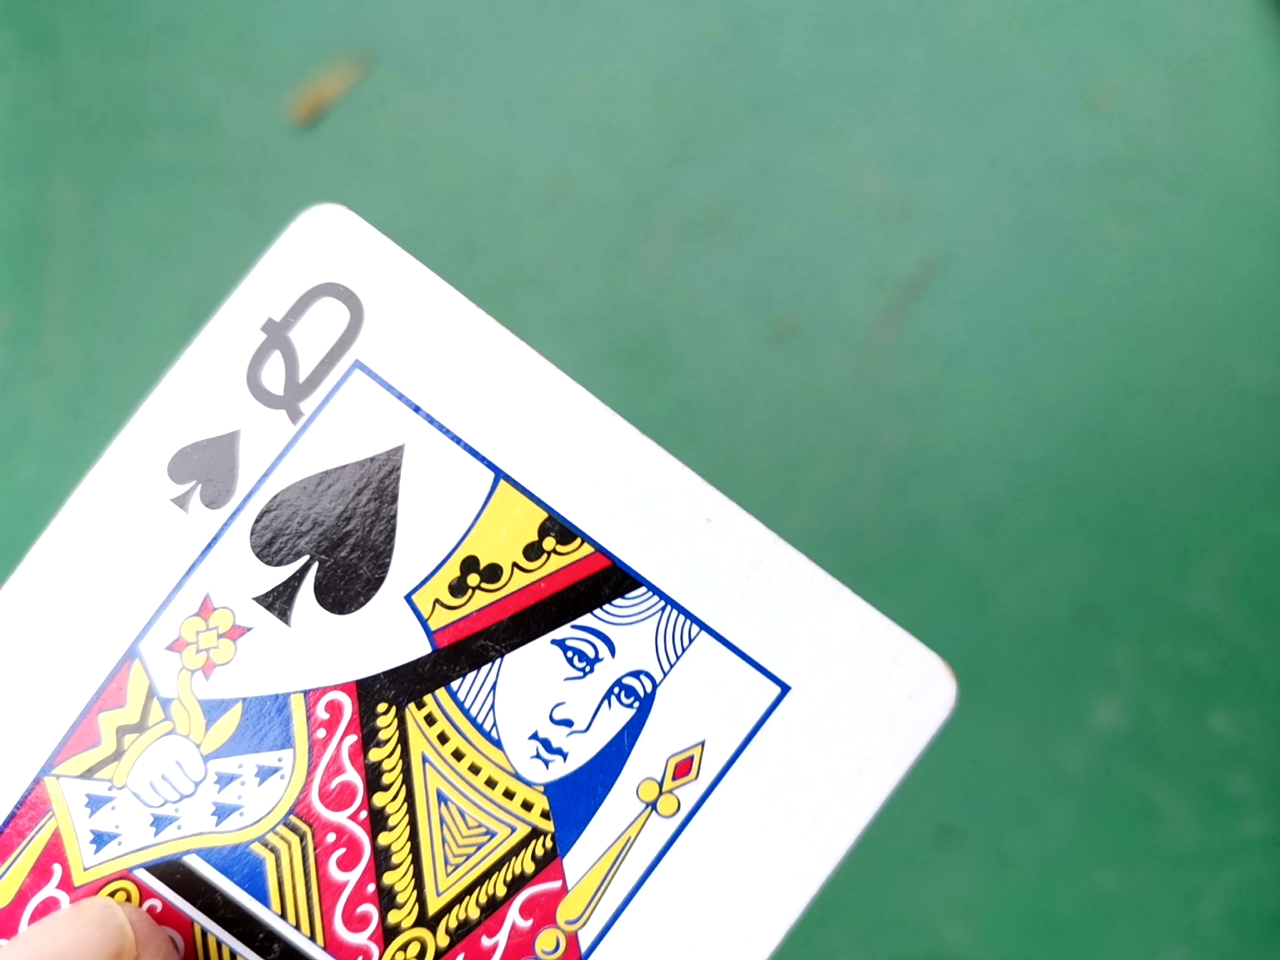ht q: (1, 186, 990, 952)
